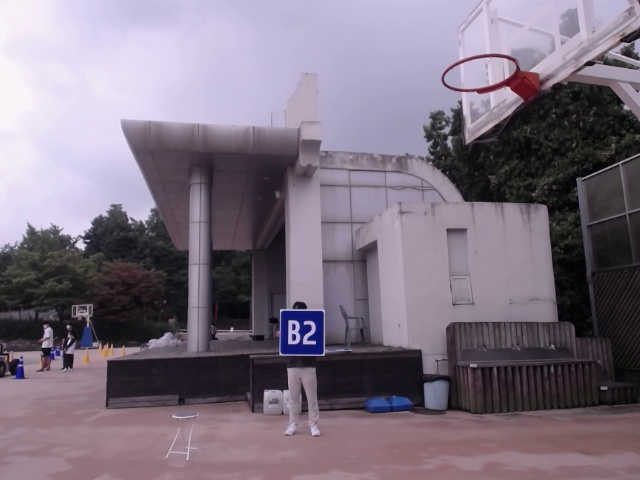delivery_b2: (280, 309, 325, 355)
